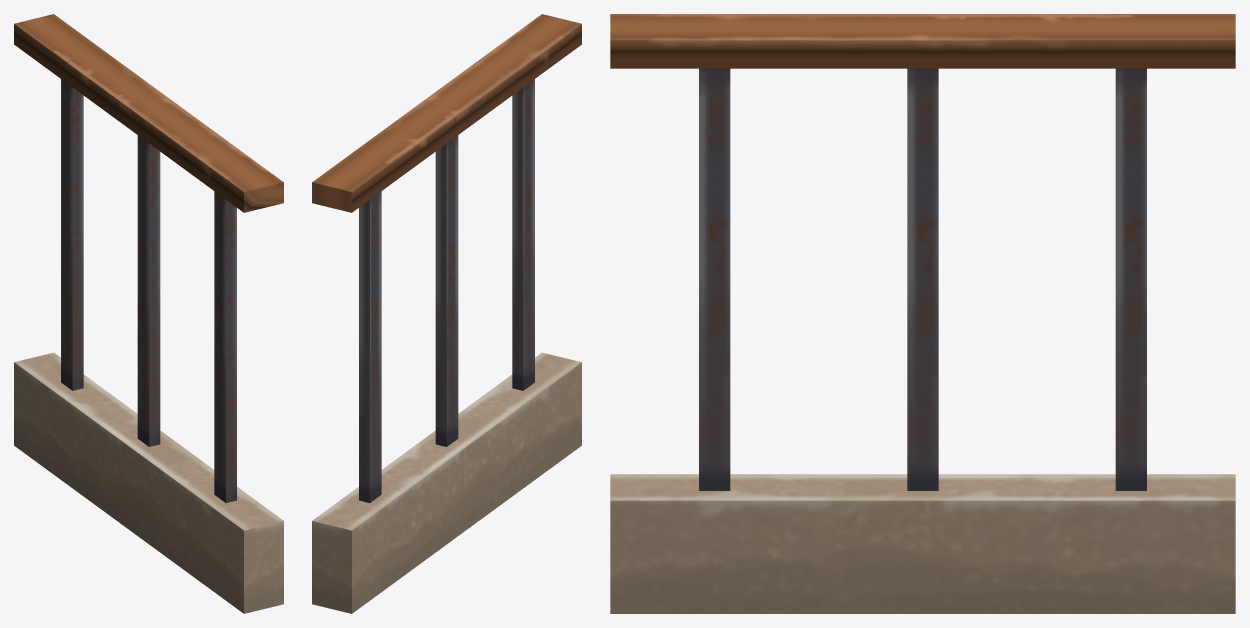
File: railing_1m.fbx
3 views of the same model, side by side, from view 1: azimuth 30°, elevation 25°; view 2: azimuth 150°, elevation 25°; view 3: azimuth 270°, elevation 25° (orthographic). The views are drawn at different scales.
Visible parts, largest first — view 1: railing_1m; view 2: railing_1m; view 3: railing_1m.
Boxes of the visible parts, <box> form: railing_1m: <box>14,14,283,613</box>; railing_1m: <box>312,14,581,613</box>; railing_1m: <box>610,14,1235,613</box>.
Size of the model in its own units: 10 by 101 by 100.
